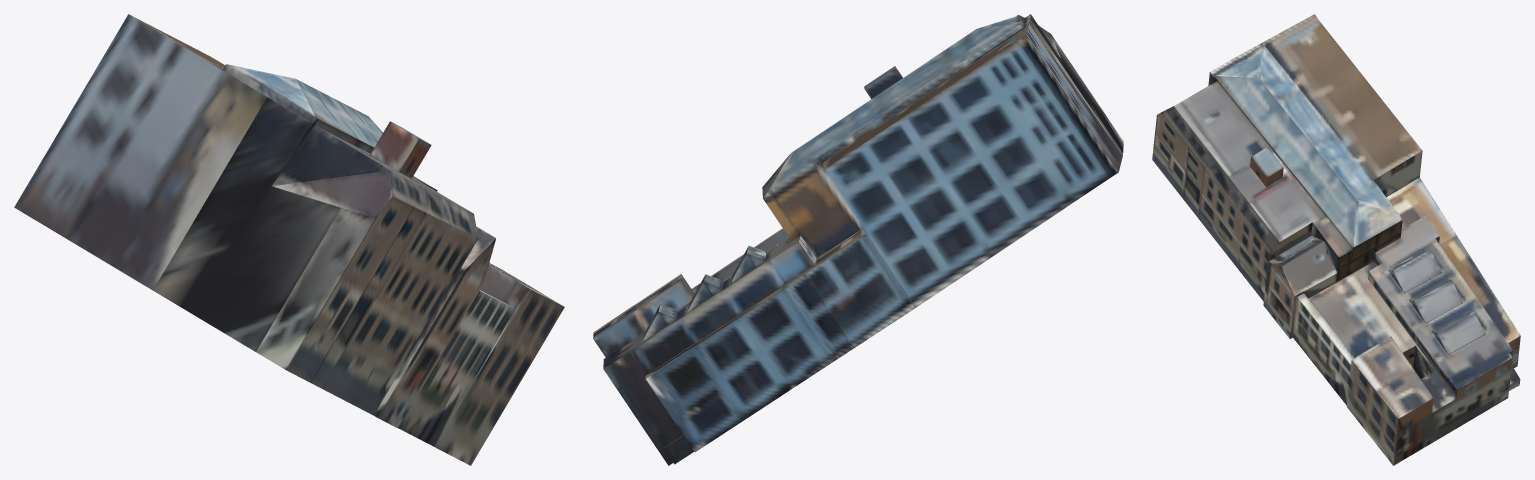
3 views of the same model, side by side, from view 1: azimuth 30°, elevation 25°; view 2: azimuth 150°, elevation 25°; view 3: azimuth 270°, elevation 25° (orthographic). The views are drawn at different scales.
Parts seen in each view (by area): view 1: BAG_0599100000760345 (×6); view 2: BAG_0599100000760345 (×6); view 3: BAG_0599100000760345 (×7).
Part boxes in pixels (bbox=[...]): BAG_0599100000760345 (×6): bbox=[14, 14, 564, 465]; BAG_0599100000760345 (×6): bbox=[593, 14, 1123, 465]; BAG_0599100000760345 (×7): bbox=[1152, 14, 1520, 465].
Size of the model in its own units: 49.35 by 45.16 by 44.5.
Materials: 1 (1 with a texture image).
